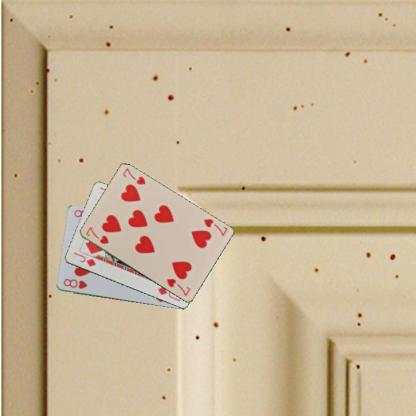7h: (201, 216, 228, 238), (83, 224, 110, 245)
8h: (61, 276, 88, 290)
Jd: (71, 250, 97, 268)
